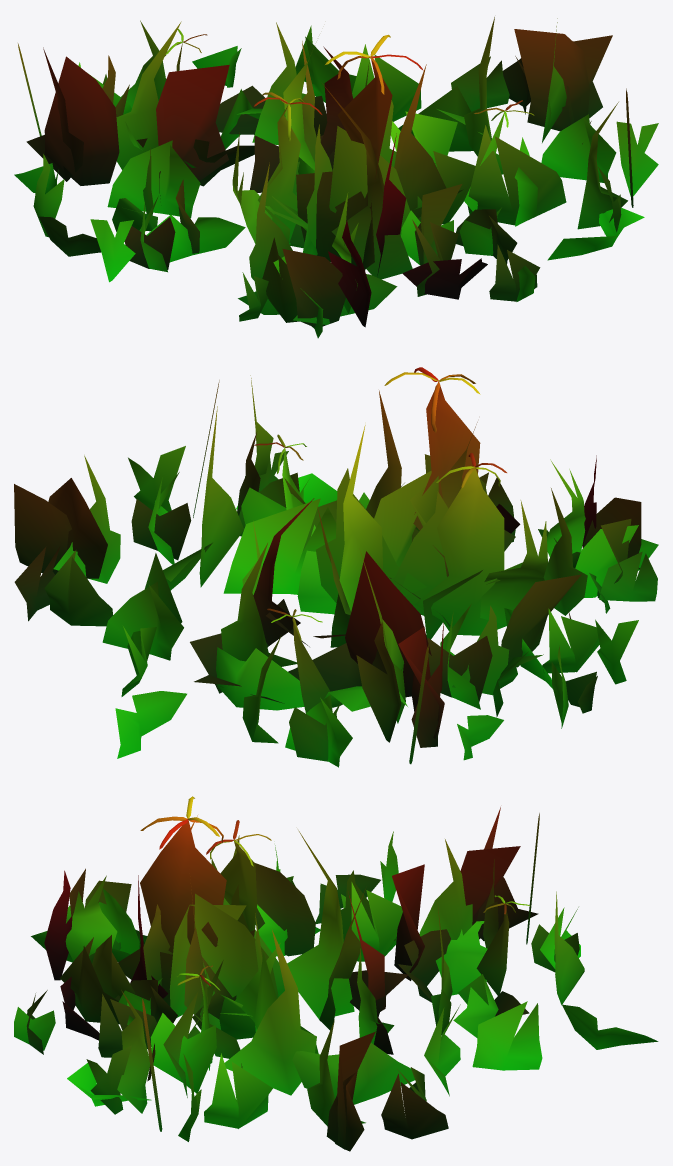
Rendered from SM_OW_GrassLawn_a_LOD0.fbx.
The picture shows the model from 3 angles, top to bottom: view 1: azimuth 30°, elevation 25°; view 2: azimuth 150°, elevation 25°; view 3: azimuth 270°, elevation 25°; orthographic projection. The views are drawn at different scales.
Visible parts, largest first — view 1: SM_OW_GrassLawn_a_LOD0; view 2: SM_OW_GrassLawn_a_LOD0; view 3: SM_OW_GrassLawn_a_LOD0.
Boxes of the visible parts, left/top/right/bottom form: SM_OW_GrassLawn_a_LOD0: left=14, top=17, right=658, bottom=338; SM_OW_GrassLawn_a_LOD0: left=14, top=367, right=658, bottom=767; SM_OW_GrassLawn_a_LOD0: left=14, top=796, right=658, bottom=1151.
Bounding box in the file's own units: 0.6377 × 0.2486 × 0.6563.
